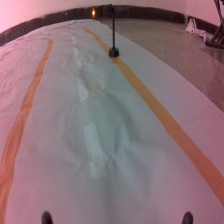yellow: (89, 3, 119, 59)
